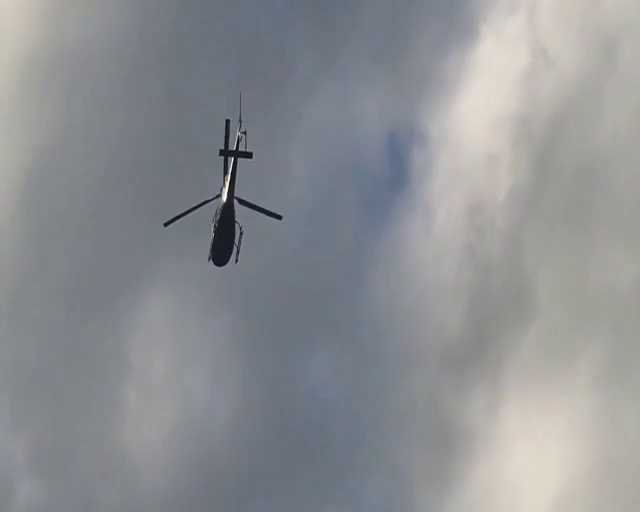HELICOPTER: (162, 95, 286, 271)
